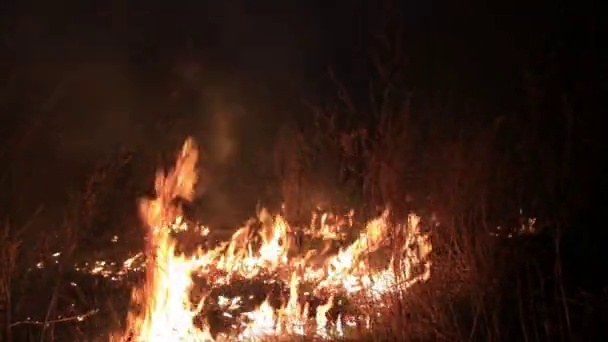fire: (205, 202, 432, 292), (112, 138, 206, 340), (218, 284, 363, 342)
